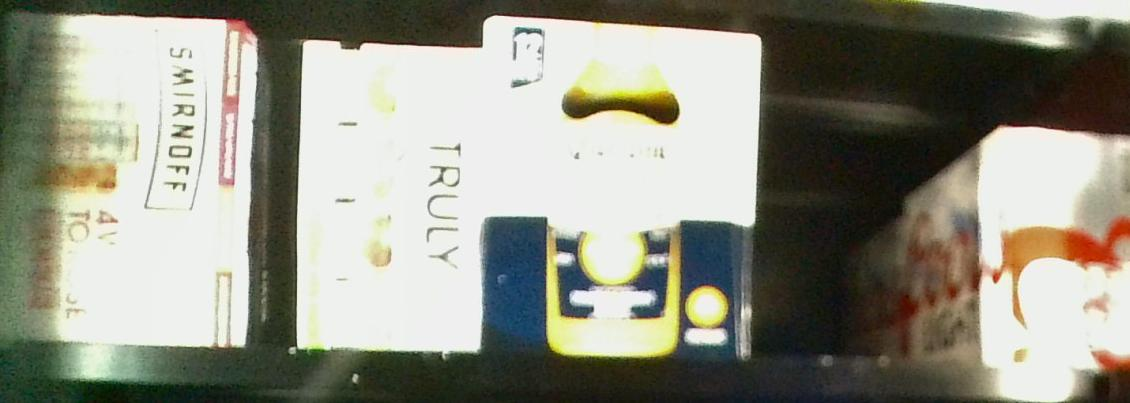bottle: (482, 15, 756, 360), (1, 11, 251, 350), (298, 35, 481, 352), (979, 127, 1130, 363)
